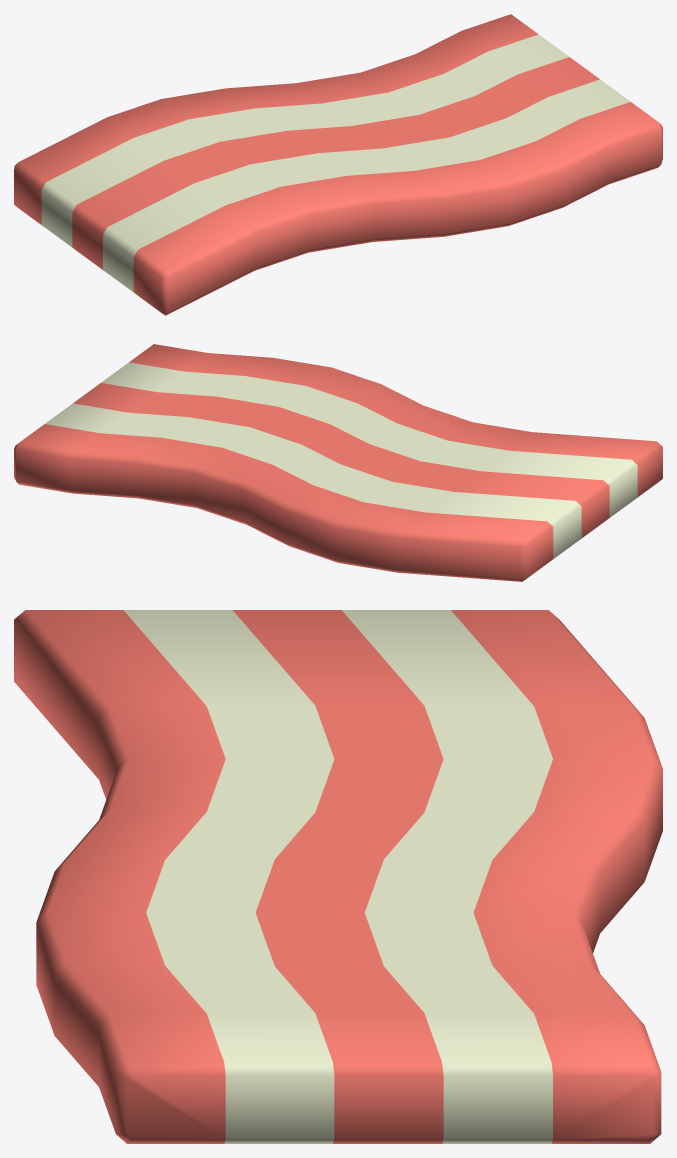
Rendered from Bacon_Hotdog_half.fbx.
3 renders of one model, top to bottom at view 1: azimuth 30°, elevation 25°; view 2: azimuth 150°, elevation 25°; view 3: azimuth 270°, elevation 25°, orthographic. The views are drawn at different scales.
Visible parts, largest first — view 1: Bacon_Hotdog_half; view 2: Bacon_Hotdog_half; view 3: Bacon_Hotdog_half.
Boxes of the visible parts, x1,y1,x2,y2 form: Bacon_Hotdog_half: (14,14,662,315); Bacon_Hotdog_half: (14,344,662,581); Bacon_Hotdog_half: (14,610,662,1143).
Size of the model in its own units: 64.34 by 38.27 by 5.32.
